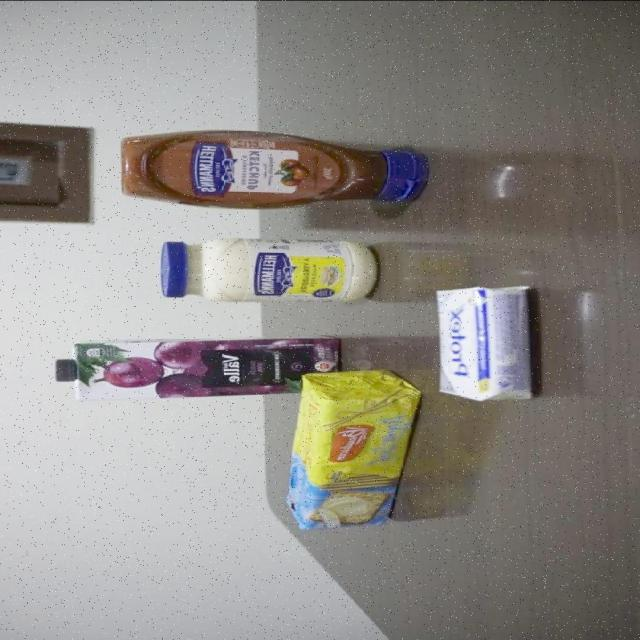Cracker: (284, 369, 426, 532)
Ketchup: (116, 128, 432, 211)
Mayonnaise: (159, 236, 383, 303)
Soap: (434, 282, 535, 404)
